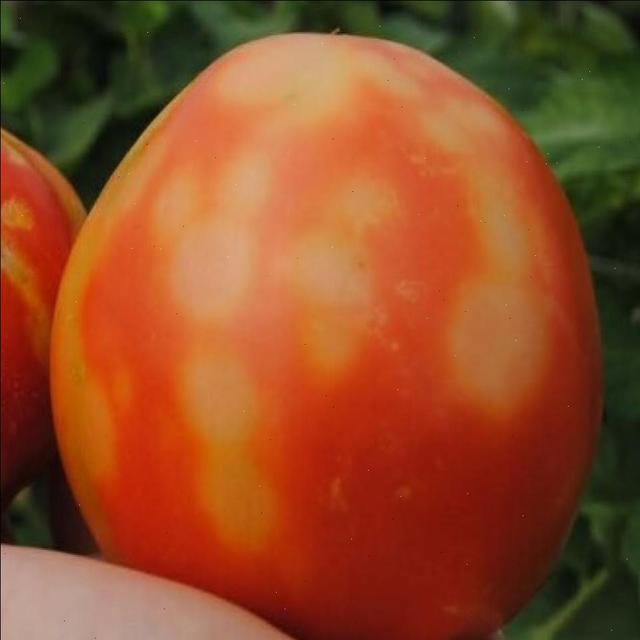Spotted wilt Virus Fruit: (0, 331, 347, 427)
